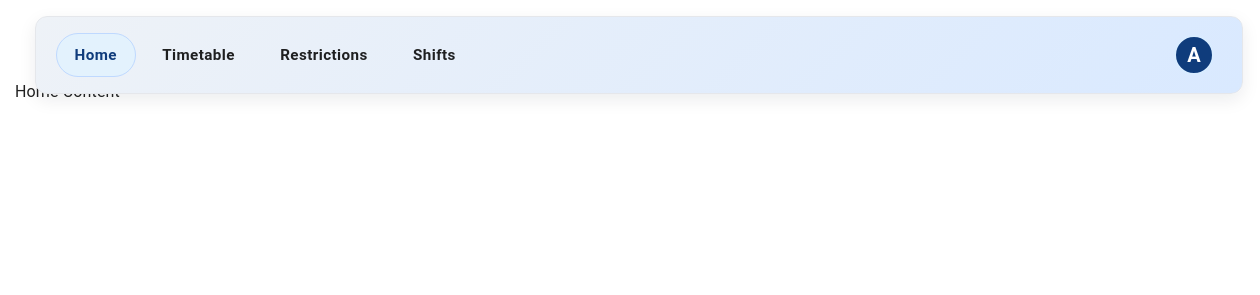
Test: Components - InvigilatorLayout › shows view administrator dashboard when user is admin
Click the button named "account menu". click: (1194, 55)
box: x1=1166 y1=27 x2=1222 y2=83
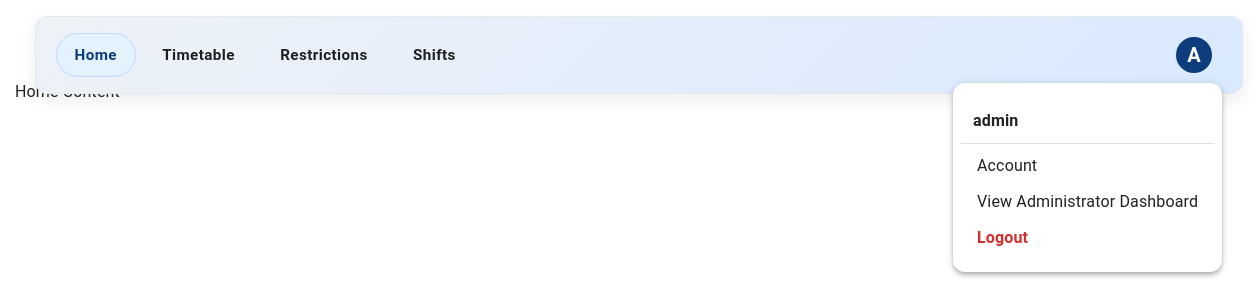
Check: the menu item "View Administrator Dashboard" is shown, box x1=977 y1=192 x2=1198 y2=211
